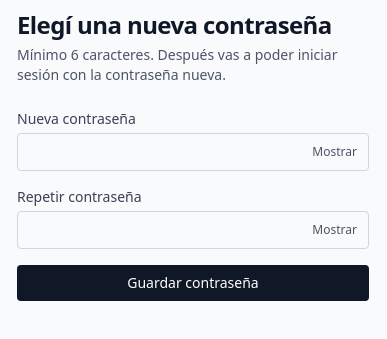
ResetPasswordPage · elegir la nueva contraseña › contraseñas distintas: error inline y CERO requests
Type "nueva123" into the password field labelled "Nueva contraseña". click: (193, 152)
box: x1=17 y1=133 x2=369 y2=171
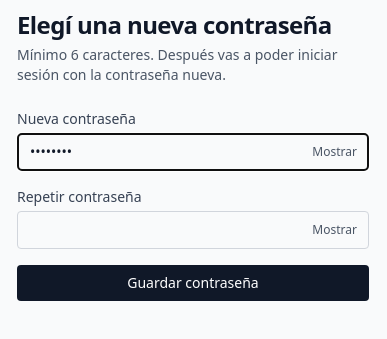
Type "otra123" into the password field labelled "Repetir contraseña". click: (193, 230)
box: x1=17 y1=211 x2=369 y2=249
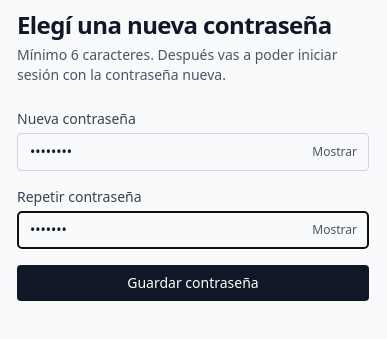
Click the button "Guardar contraseña". click: (193, 283)
box: x1=17 y1=265 x2=369 y2=301
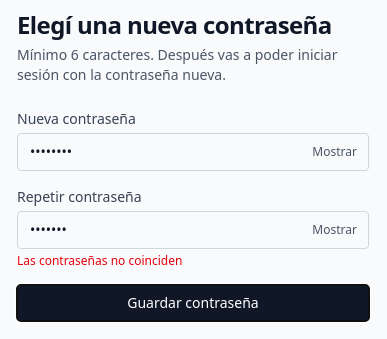
Check: the text "Las contraseñas no coinciden" is shown, box x1=17 y1=252 x2=182 y2=269
